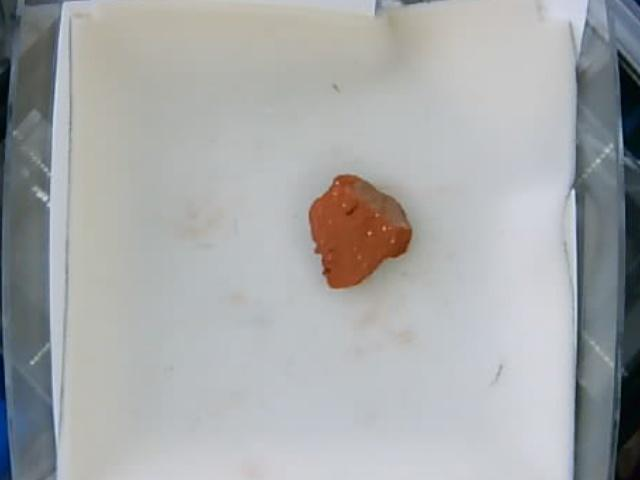Brisk: (307, 173, 411, 290)
